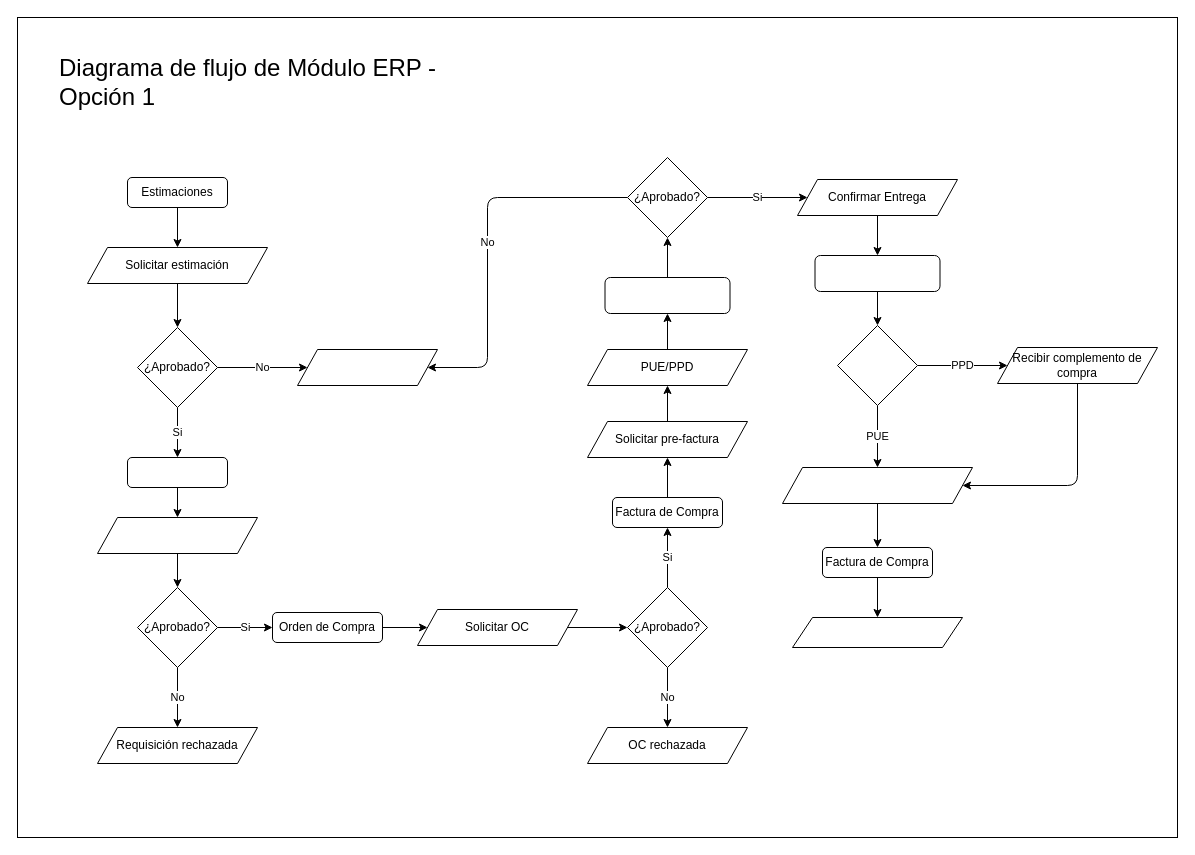
The diagram is 1195 pixels wide and 855 high, and some of its shapes have lost their labels. Here are the shapes that lost their labels. From the top down, the centre of each, then its label:
At pixel 877 273: "Aplicación de pagos".
At pixel 667 295: "Autorización de pago".
At pixel 367 367: "Solicitud Rechazada".
At pixel 877 365: "Tipo de pago".
At pixel 177 472: "Requisiciones".
At pixel 877 485: "Recibir Factura de proveedor".
At pixel 177 535: "Solicitud de Requisición".
At pixel 877 632: "Simular timbrado de SAT".
